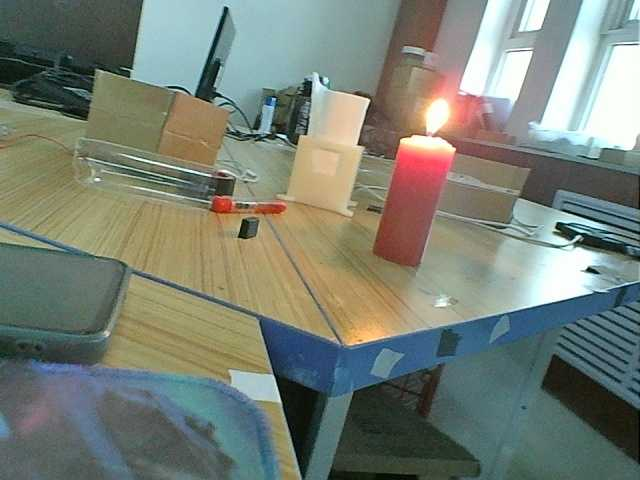candle: (371, 125, 454, 276)
fire: (408, 93, 479, 164)
